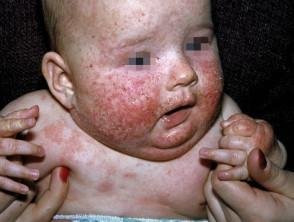Eczema: (45, 122, 65, 142), (134, 93, 153, 109), (96, 181, 118, 194), (168, 10, 184, 26), (123, 168, 142, 181), (69, 136, 85, 151), (81, 61, 98, 75), (111, 18, 129, 31), (70, 127, 86, 141), (114, 83, 132, 95), (90, 82, 106, 95), (123, 117, 138, 130), (261, 130, 273, 145), (99, 129, 115, 140), (148, 184, 162, 196), (132, 80, 147, 91), (240, 121, 255, 132), (94, 147, 109, 157), (88, 34, 103, 44), (133, 161, 148, 171), (101, 71, 115, 81), (213, 61, 222, 76), (156, 135, 171, 144), (201, 74, 212, 86), (113, 104, 126, 114), (198, 61, 211, 71), (85, 161, 98, 171), (172, 131, 185, 141), (164, 168, 178, 177), (59, 154, 74, 162), (200, 5, 210, 17), (149, 76, 162, 85), (154, 53, 165, 63), (138, 10, 148, 20), (169, 70, 179, 80), (74, 44, 87, 51), (100, 104, 110, 113), (91, 111, 100, 121), (207, 97, 216, 106), (189, 88, 199, 95), (40, 96, 51, 102), (50, 104, 58, 112), (162, 97, 172, 103), (202, 112, 209, 119), (178, 58, 186, 64), (231, 118, 238, 123)
